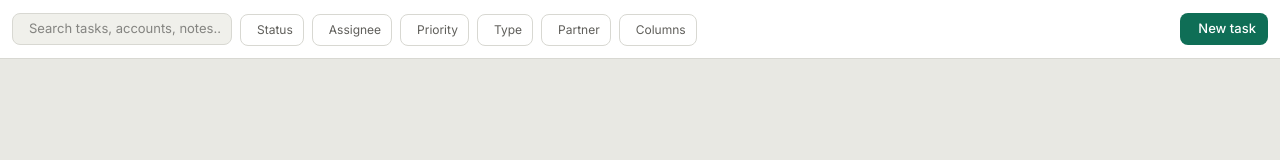
Test case: TaskToolbar › populates the Assignee chip from useUsers
Click the button "Assignee" at point(352, 30), box x1=312 y1=14 x2=392 y2=46
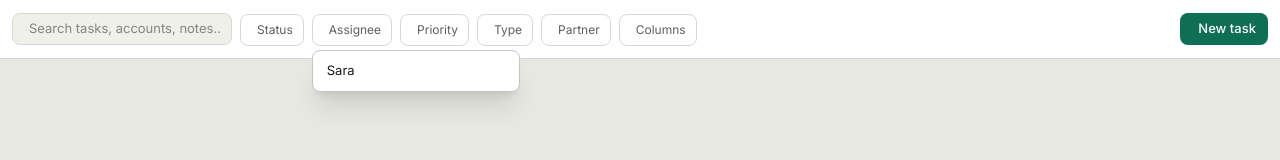
Check: the button "Sara" is shown, box x1=317 y1=55 x2=515 y2=86
